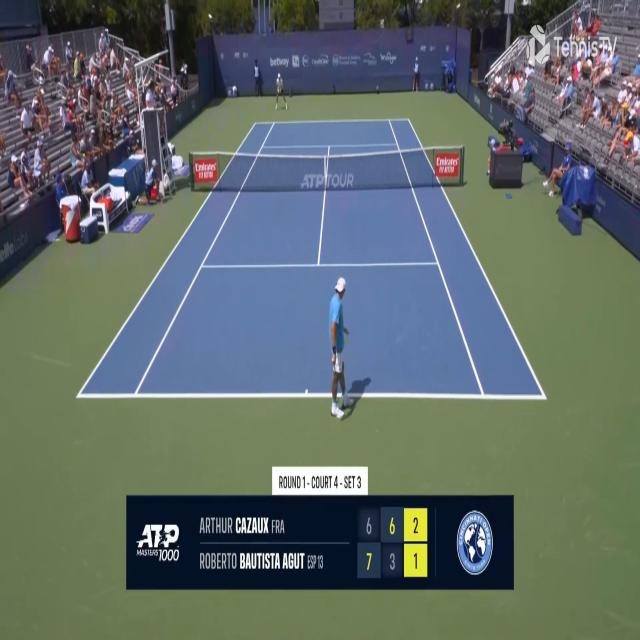tennis-player: (328, 273, 351, 423), (274, 73, 288, 112)
